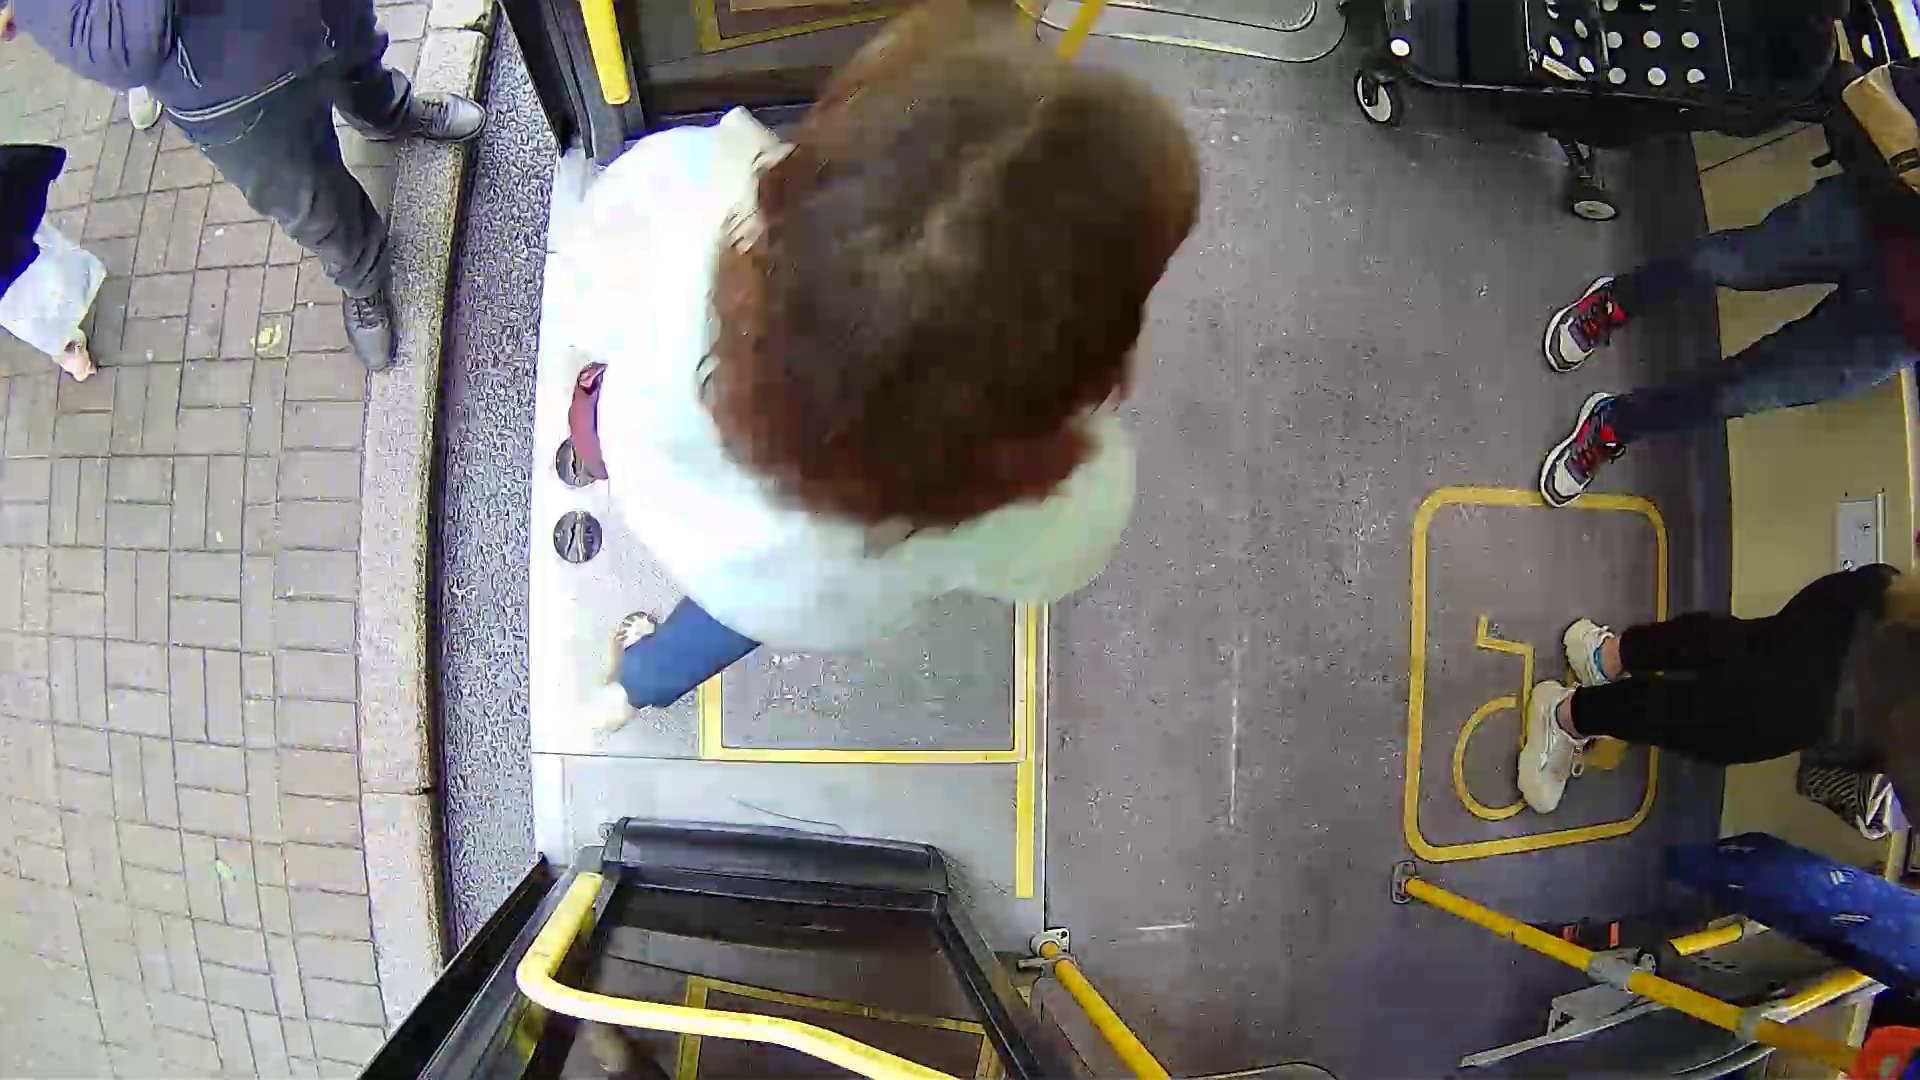person: (525, 54, 1278, 706)
